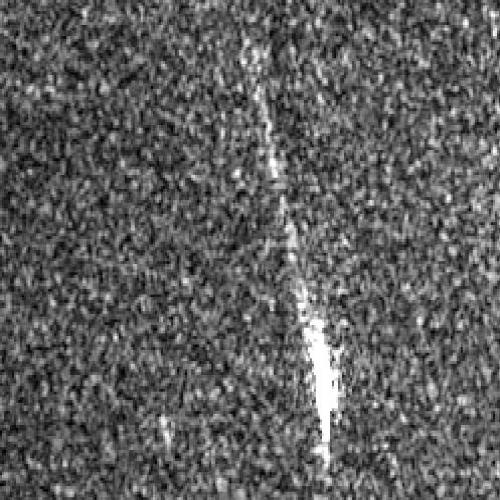ship: (305, 316, 340, 417)
